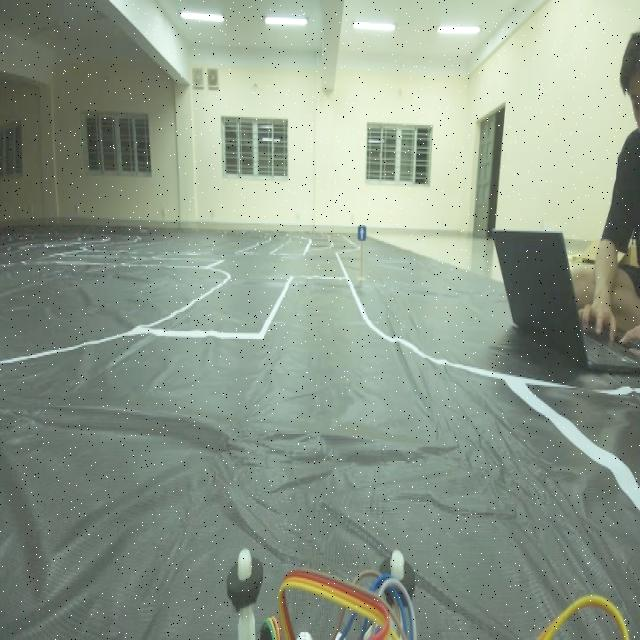onewayroad: (356, 216, 370, 253)
